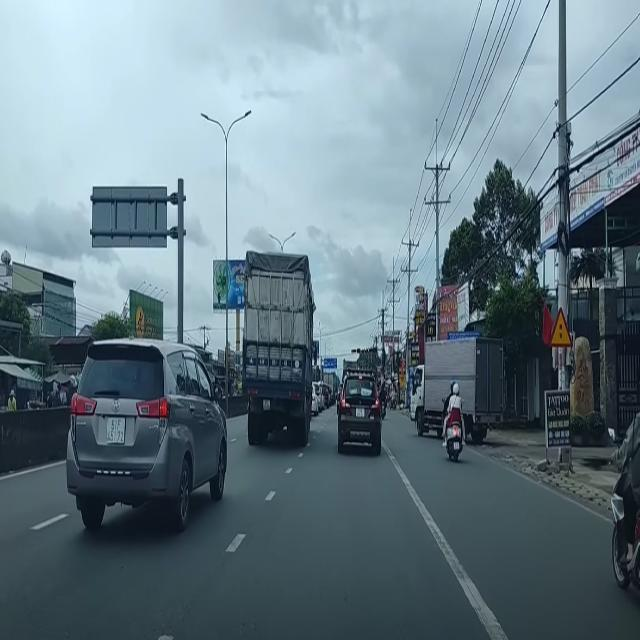Bien bao giao nhau co tin hieu den: (548, 305, 574, 352)
